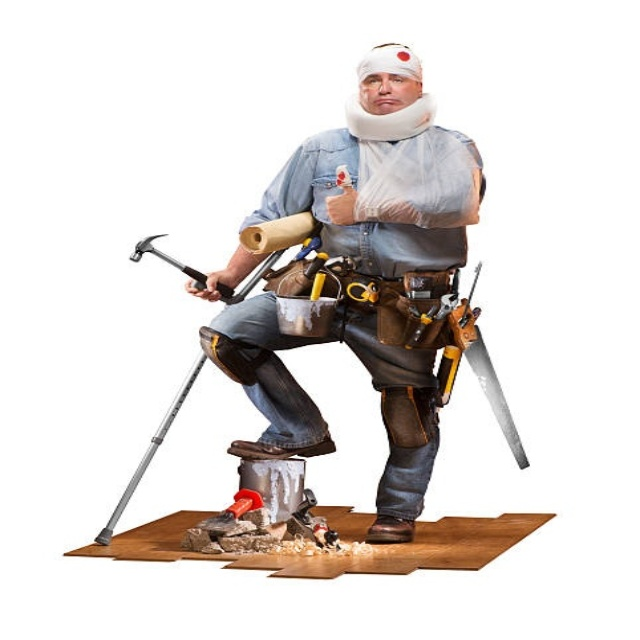Sin_gafas: (364, 74, 410, 93)
Sin_guantes: (324, 173, 360, 226), (186, 270, 230, 301)
Sin_mascara: (372, 94, 402, 114)
